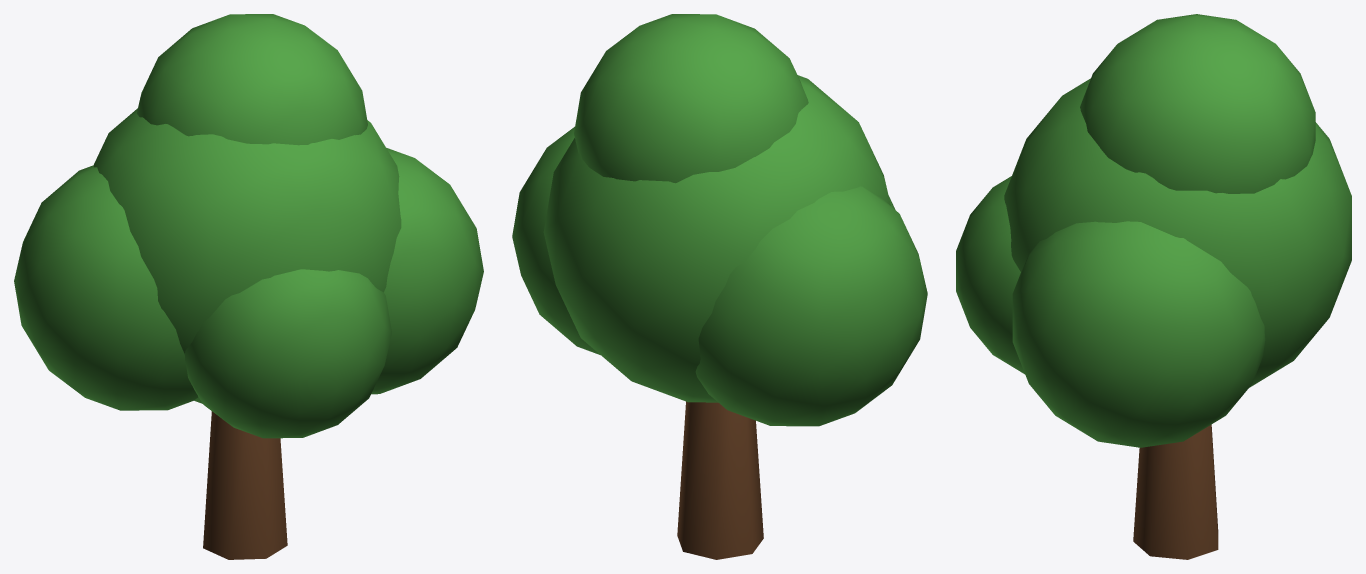
Rendered from round_tree.glb.
The picture shows the model from 3 angles, left to right: view 1: azimuth 30°, elevation 25°; view 2: azimuth 150°, elevation 25°; view 3: azimuth 270°, elevation 25°; orthographic projection. The views are drawn at different scales.
Visible parts, largest first — view 1: roundTree; view 2: roundTree; view 3: roundTree.
Part boxes in pixels (x1,y1,x2,y2): roundTree: [14, 14, 483, 559]; roundTree: [512, 14, 927, 559]; roundTree: [956, 14, 1351, 559].
Bounding box in the file's own units: 2.54 × 3.09 × 2.12.
